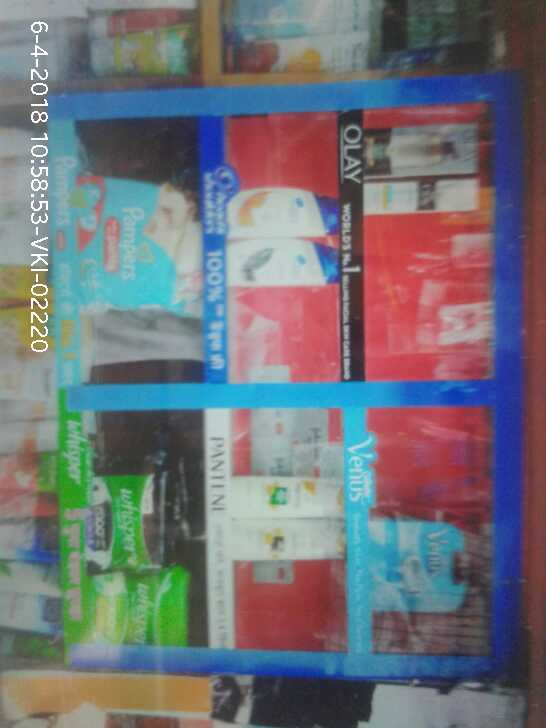venus: (368, 517, 474, 611)
